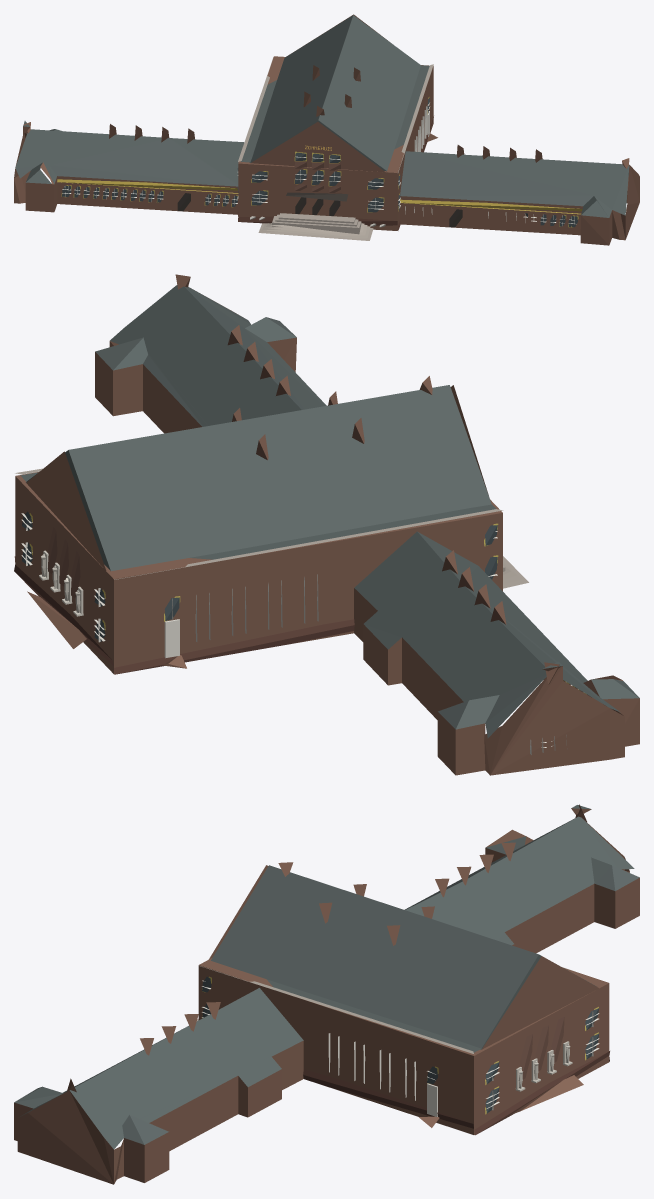
File: zonnehuis.lod1.glb
The picture shows the model from 3 angles, top to bottom: view 1: azimuth 30°, elevation 25°; view 2: azimuth 150°, elevation 25°; view 3: azimuth 270°, elevation 25°; orthographic projection. The views are drawn at different scales.
Visible parts, largest first — view 1: zonnehuis; view 2: zonnehuis; view 3: zonnehuis.
Part boxes in pixels (box(x1,y1,x2,y2)): zonnehuis: box(14, 14, 639, 245); zonnehuis: box(14, 274, 639, 775); zonnehuis: box(14, 804, 639, 1184).
Size of the model in its own units: 68.61 by 15.5 by 57.98.
